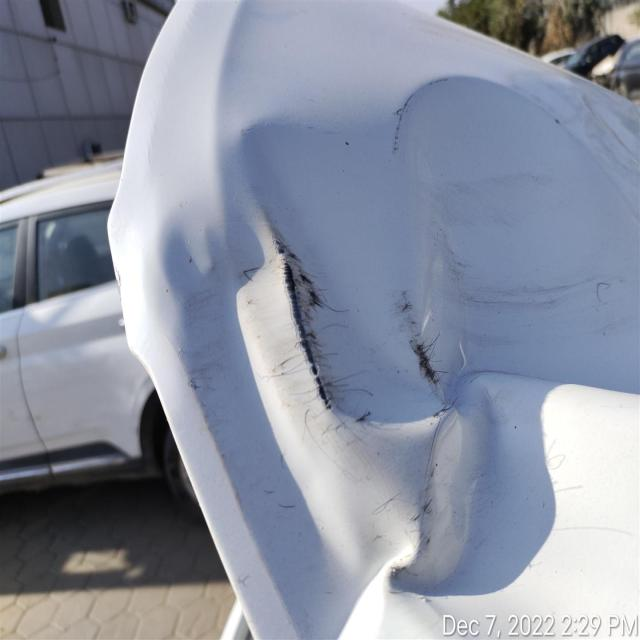damage: (153, 62, 640, 636)
